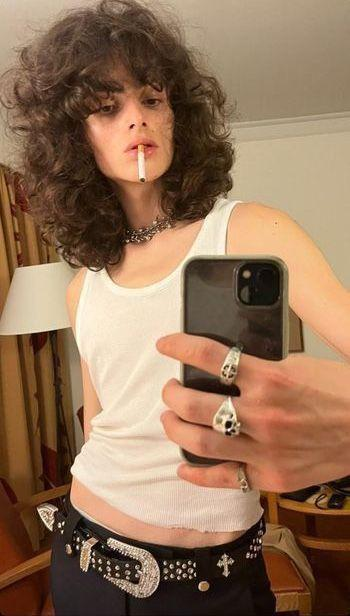cigarette: (138, 143, 146, 183)
